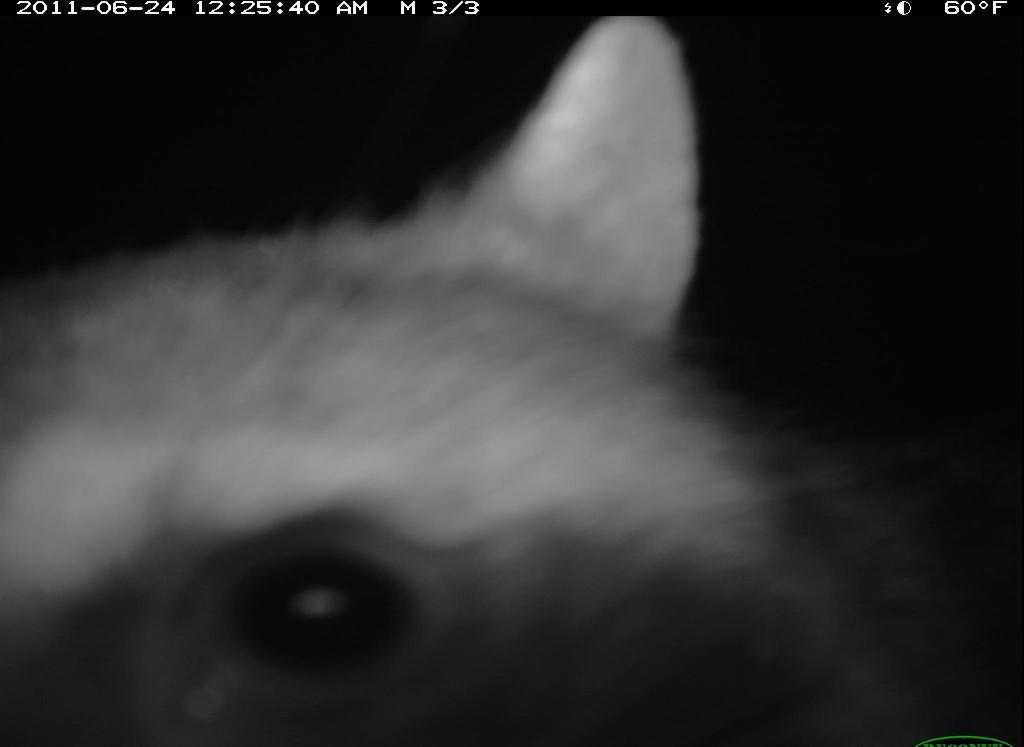raccoon: (4, 17, 1003, 747)
